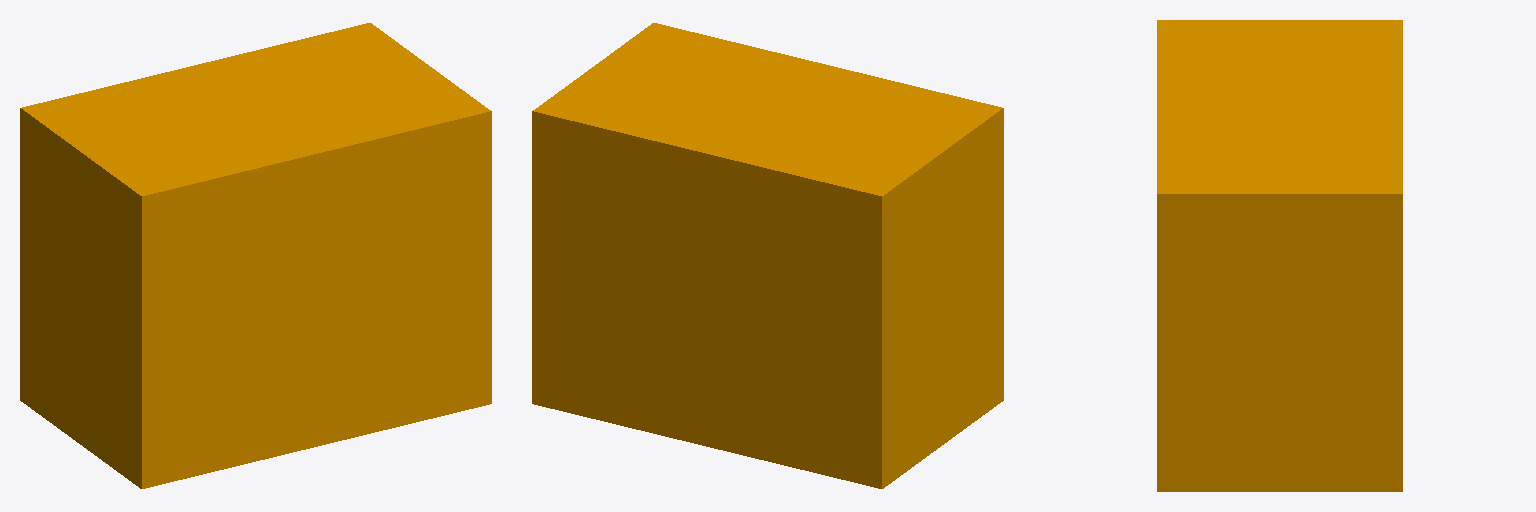
URDF robot description (object):
<?xml version="0.0"?>
	<robot name="object">
		<link name="object">
			<visual>
				<origin xyz="0 0 0"/>
				<geometry>
					<box size="0.5 0.3 0.4"/>
				</geometry>
			</visual>
			<inertial>
				<mass value="6.000"/>
			</inertial>
			<collision>
				<origin xyz="0 0 0"/>
				<geometry>
					<box size="0.5 0.3 0.4"/>
				</geometry>
			</collision>
		</link>

	</robot>

--- Render facts (derived) ---
Views: 3 orthographic renders of the robot side by side, from view 1: azimuth 30°, elevation 25°; view 2: azimuth 150°, elevation 25°; view 3: azimuth 270°, elevation 25°.
Model object with 1 links and 0 joints (none), rooted at object, posed all joints at 0.
Links seen in each view (by area): view 1: object; view 2: object; view 3: object.
Boxes of the visible links, box(x1,y1,x2,y2) form: object: box(20, 23, 491, 488); object: box(532, 23, 1003, 488); object: box(1157, 20, 1402, 491).
Bounding box of the posed robot: 0.5 × 0.3 × 0.4 m (x, y, z).
Geometry: primitives only (box / cylinder / sphere), no mesh files.
